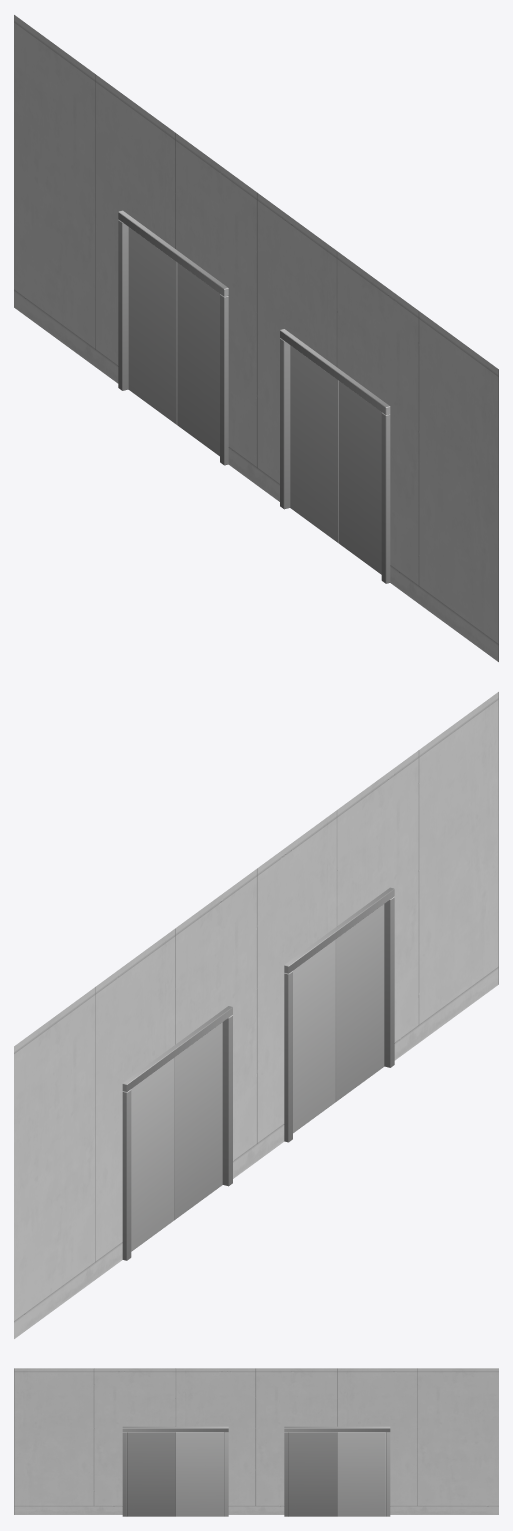
File: Elevator.fbx
The picture shows the model from 3 angles, top to bottom: view 1: azimuth 30°, elevation 25°; view 2: azimuth 150°, elevation 25°; view 3: azimuth 270°, elevation 25°; orthographic projection. The views are drawn at different scales.
Visible parts, largest first — view 1: Elevator; view 2: Elevator; view 3: Elevator.
Part boxes in pixels (x1,y1,x2,y2): Elevator: (14, 15, 498, 661); Elevator: (14, 692, 498, 1338); Elevator: (14, 1368, 498, 1516).
Size of the model in its own units: 22.46 by 500 by 1500.
2 materials, 2 textured.
